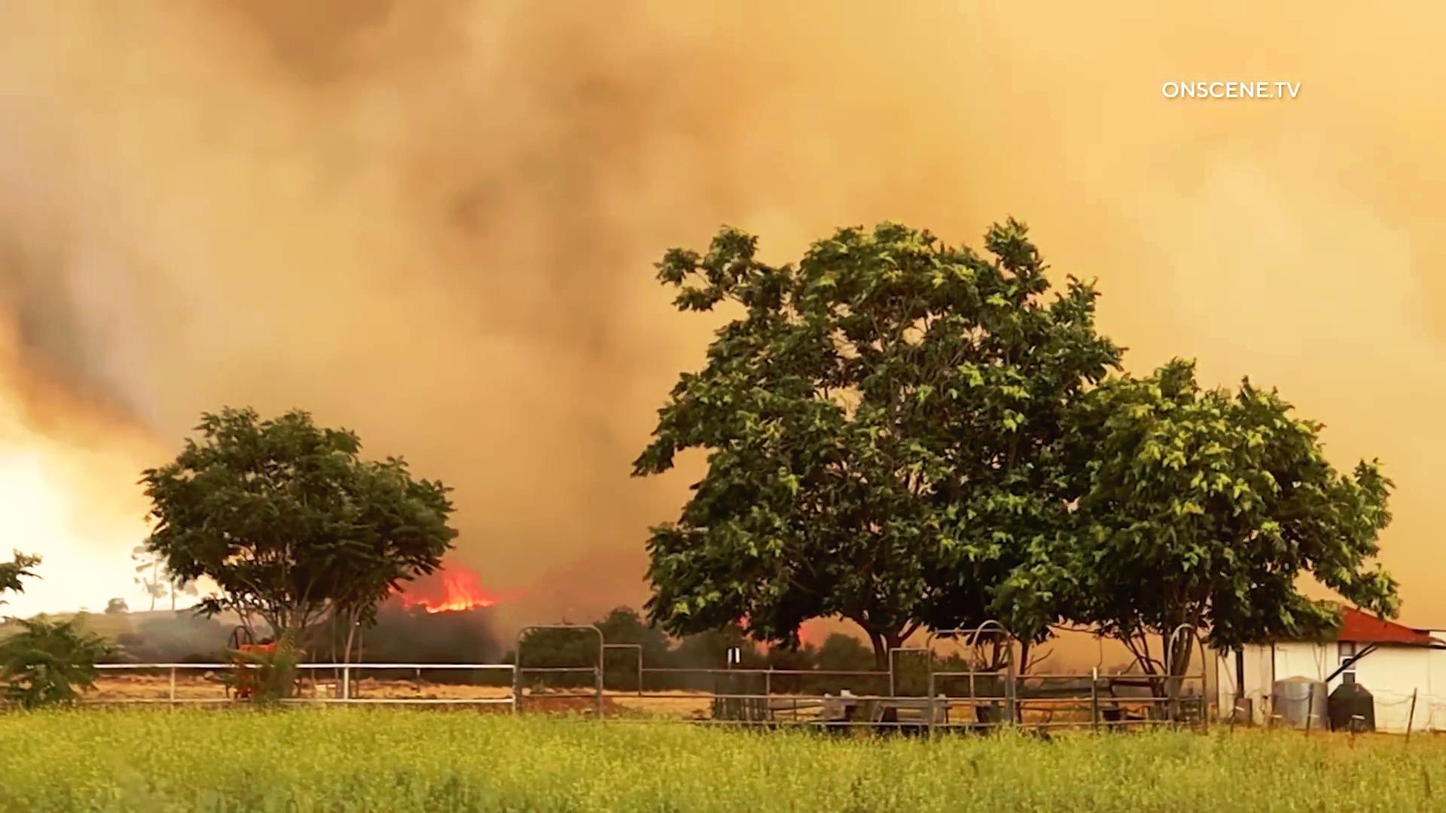fire: (394, 537, 518, 615)
